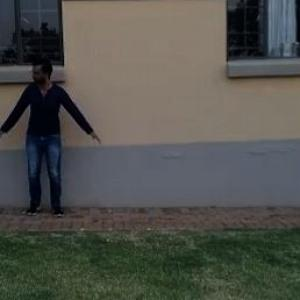land: (1, 49, 112, 235)
